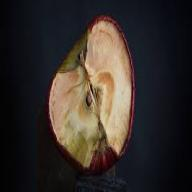apple: (48, 16, 132, 170)
